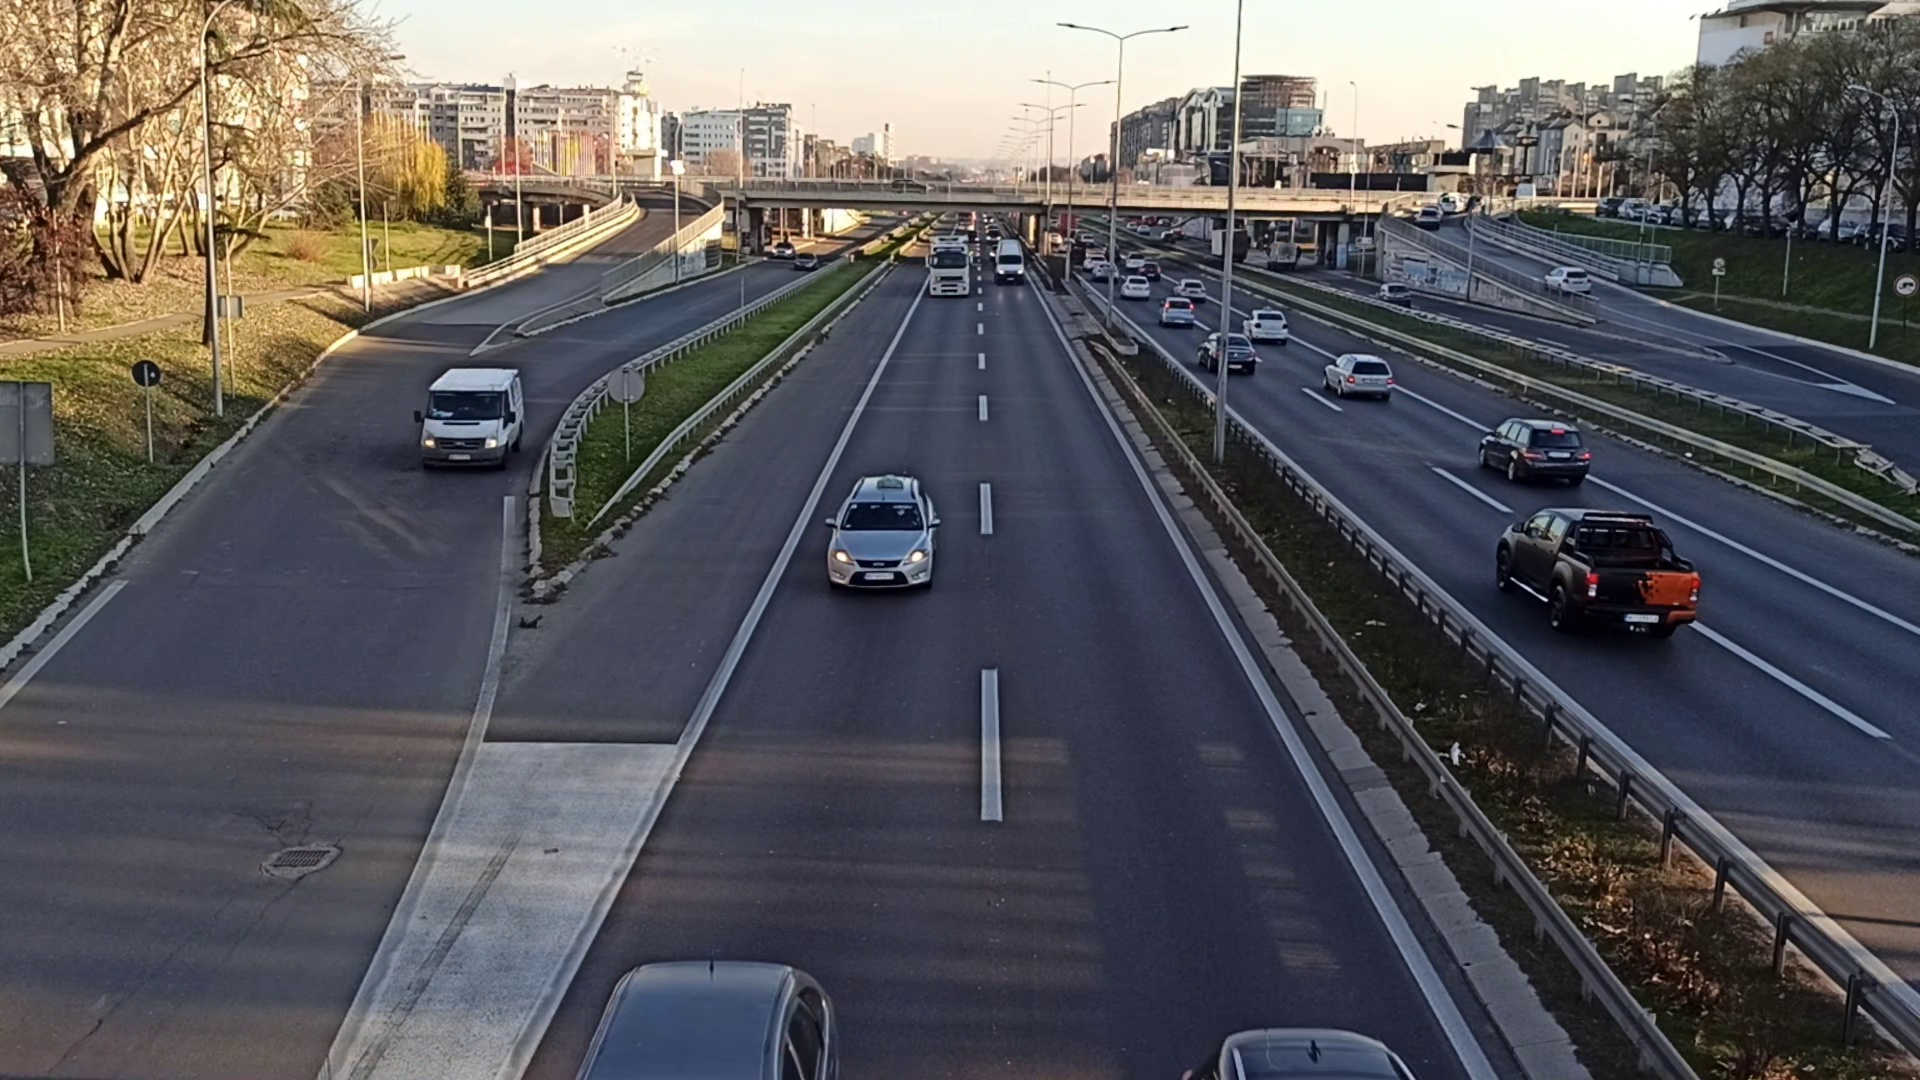car: (1495, 501, 1716, 646), (825, 473, 935, 597), (1480, 414, 1593, 487), (1323, 351, 1394, 400), (1195, 332, 1255, 371), (1542, 262, 1594, 298), (1240, 309, 1291, 344), (1160, 295, 1193, 328), (1176, 278, 1207, 302), (1122, 276, 1149, 298)
truck: (927, 233, 971, 301)
van: (418, 363, 533, 475), (993, 237, 1023, 282)
